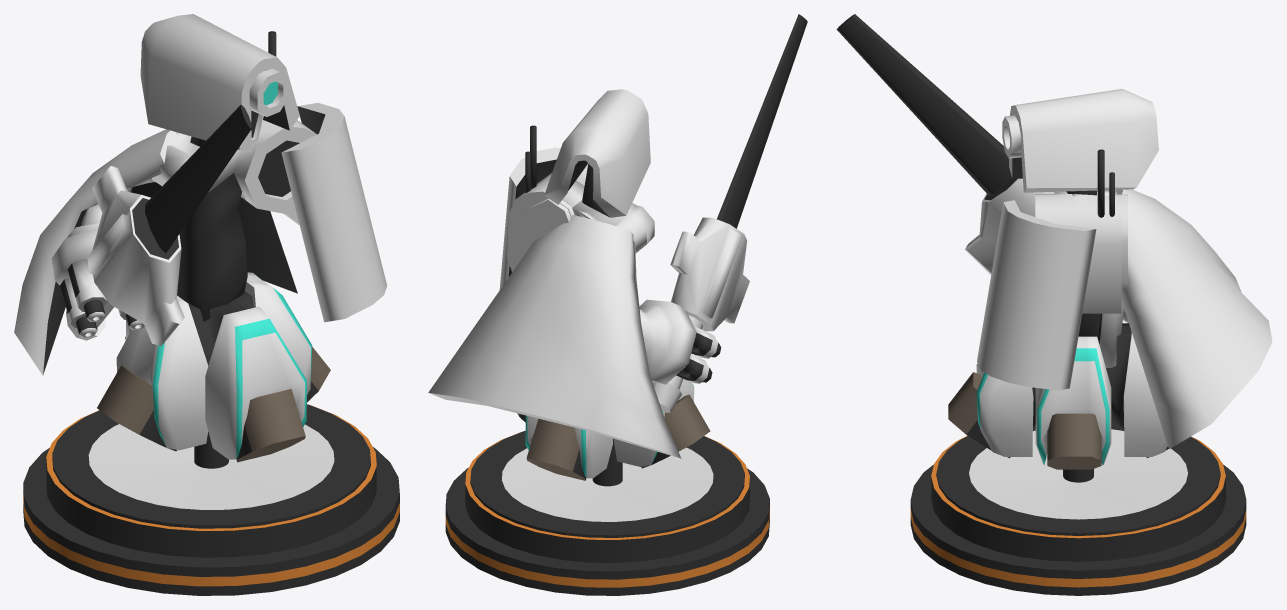
The model's file is Statue Small.fbx.
3 views of the same model, side by side, from view 1: azimuth 30°, elevation 25°; view 2: azimuth 150°, elevation 25°; view 3: azimuth 270°, elevation 25° (orthographic). The views are drawn at different scales.
Parts seen in each view (by area): view 1: Cylinder.004; view 2: Cylinder.004; view 3: Cylinder.004.
Part boxes in pixels (x1,y1,x2,y2): Cylinder.004: (14, 14, 399, 595); Cylinder.004: (428, 14, 807, 595); Cylinder.004: (836, 14, 1272, 595).
Bounding box in the file's own units: 1.11 × 1.71 × 1.44.
